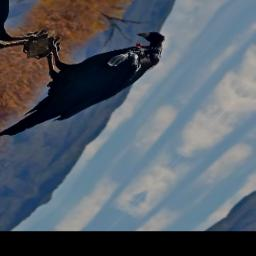Crow: (0, 0, 181, 169)
